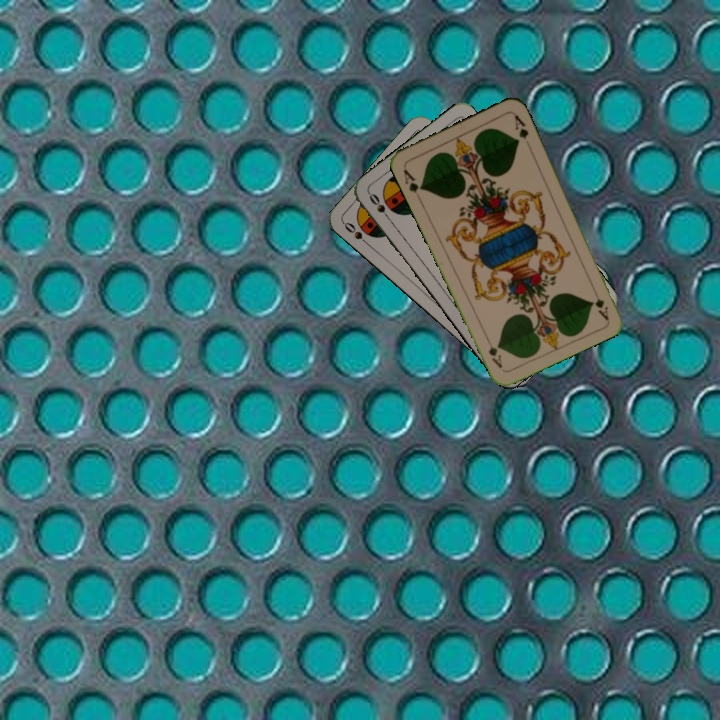GA: (588, 283, 611, 322), (399, 165, 426, 195)
SO: (340, 218, 373, 250), (365, 189, 394, 224)
